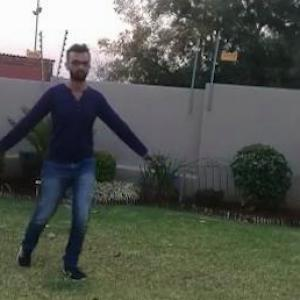land: (0, 60, 130, 240)
